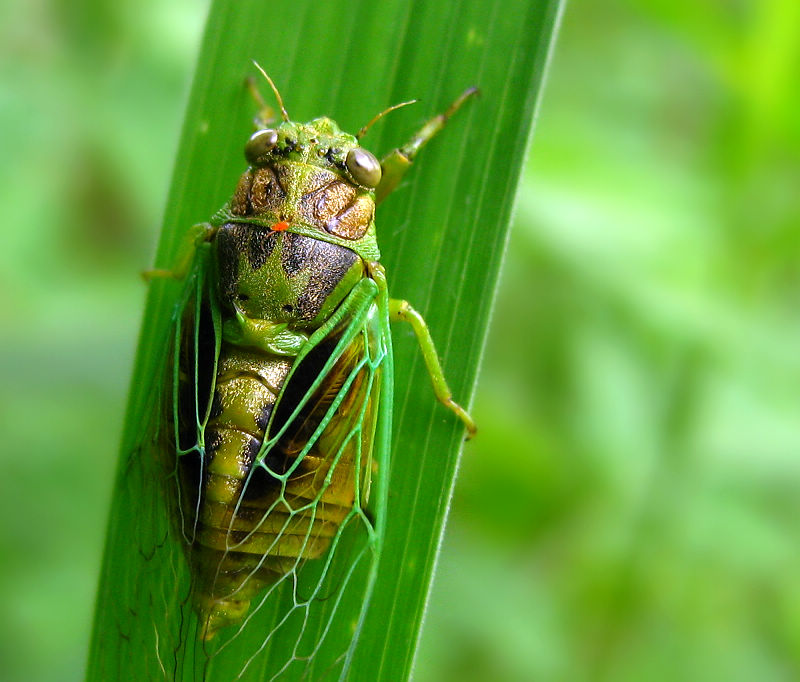chan: (134, 100, 464, 628)
